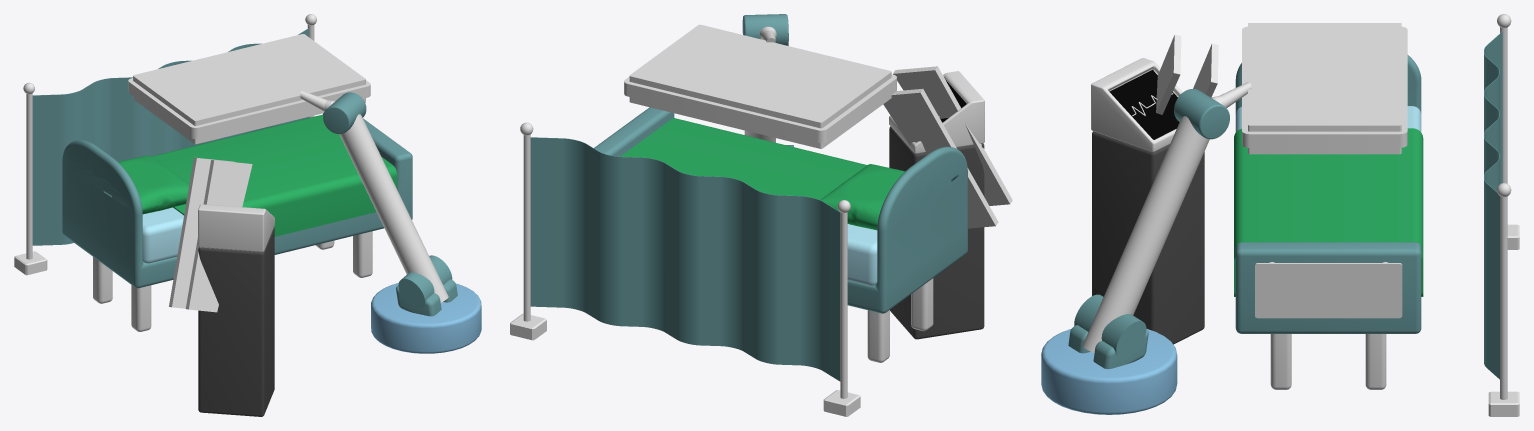
File: RAWBed.fbx
The picture shows the model from 3 angles, left to right: view 1: azimuth 30°, elevation 25°; view 2: azimuth 150°, elevation 25°; view 3: azimuth 270°, elevation 25°; orthographic projection. The views are drawn at different scales.
Parts seen in each view (by area): view 1: Cube.003, Cube.001, Plane.007, Cube.005, Plane.001, Cylinder, Cylinder.002, Cube.004, Plane.003, Plane.004, Cube.002, Plane.005 (+5 smaller); view 2: Plane.001, Plane.007, Cube.001, Cube.003, Cube.005, Cube.006, Plane.003, Plane.005, Plane.004, Plane, Cube.004, Cube.002 (+2 smaller); view 3: Cube.003, Plane.007, Cube.005, Cube.001, Plane.006, Cylinder, Cylinder.002, Plane.001, Cube.004, Plane.003, Cube.006, Cube.007 (+6 smaller).
Boxes of the visible parts, box(x1,y1,x2,y2) form: Cube.003: box(151, 114, 397, 236); Cube.001: box(62, 113, 412, 288); Plane.007: box(133, 34, 365, 144); Cube.005: box(198, 227, 274, 416); Plane.001: box(32, 28, 308, 245); Cylinder: box(371, 283, 481, 353); Cylinder.002: box(339, 114, 448, 302); Cube.004: box(198, 204, 274, 251); Plane.003: box(128, 78, 370, 139); Plane.004: box(185, 160, 252, 312); Cube.002: box(93, 231, 372, 331); Plane.005: box(169, 157, 234, 308); Plane.001: box(530, 137, 840, 381); Plane.007: box(629, 24, 891, 148); Cube.001: box(594, 107, 967, 313); Cube.003: box(620, 118, 867, 199); Cube.005: box(889, 126, 984, 339); Cube.006: box(510, 122, 860, 416); Plane.003: box(624, 74, 896, 143); Plane.005: box(883, 88, 998, 228); Plane.004: box(893, 66, 1012, 205); Plane: box(820, 164, 904, 230); Cube.004: box(889, 71, 984, 153); Cube.002: box(867, 278, 933, 362); Cube.003: box(1234, 128, 1423, 296); Plane.007: box(1248, 23, 1401, 154); Cube.005: box(1092, 131, 1204, 344); Cube.001: box(1235, 55, 1421, 333); Plane.006: box(1255, 263, 1402, 318); Cylinder: box(1041, 328, 1177, 414); Cylinder.002: box(1082, 116, 1209, 353); Plane.001: box(1484, 31, 1502, 379); Cube.004: box(1091, 58, 1182, 151); Plane.003: box(1242, 26, 1407, 147); Cube.006: box(1488, 14, 1519, 416); Cube.007: box(1068, 294, 1148, 369).
Size of what is drawn, in the model's own units: 459 by 372 by 516.
